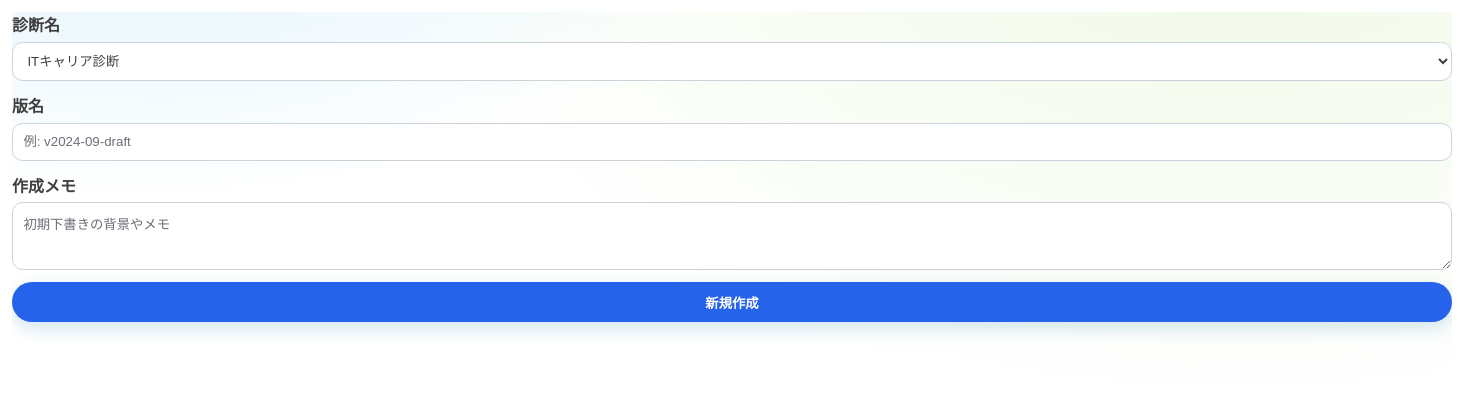
Test: CreateVersionForm › shows API error messages when creation fails
Step 1. Type "Draft-1" into the field labelled "版名" → [732, 142], box [12,123,1452,161]
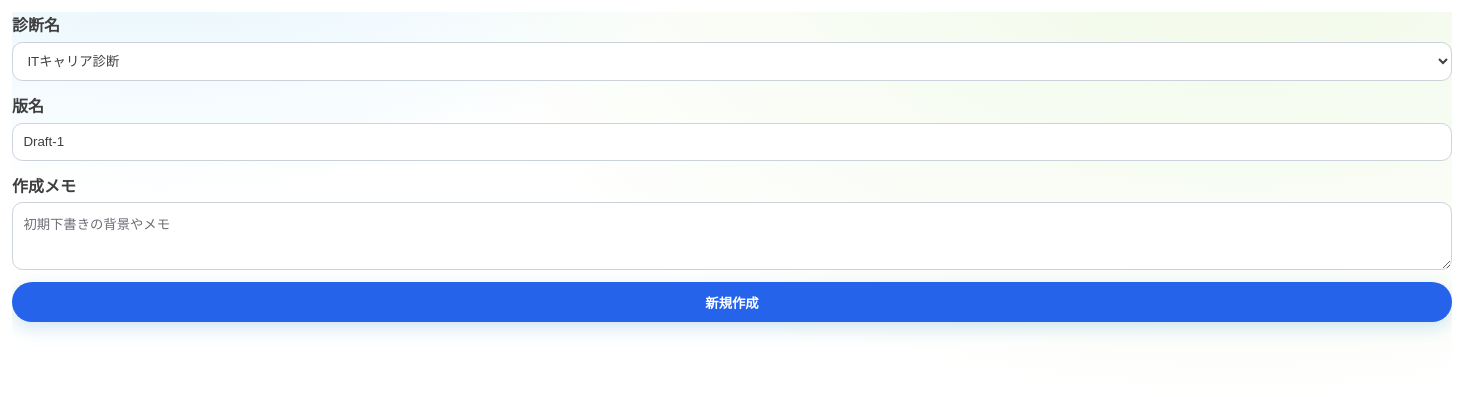
Step 2. Submit the form named "create-version-form"
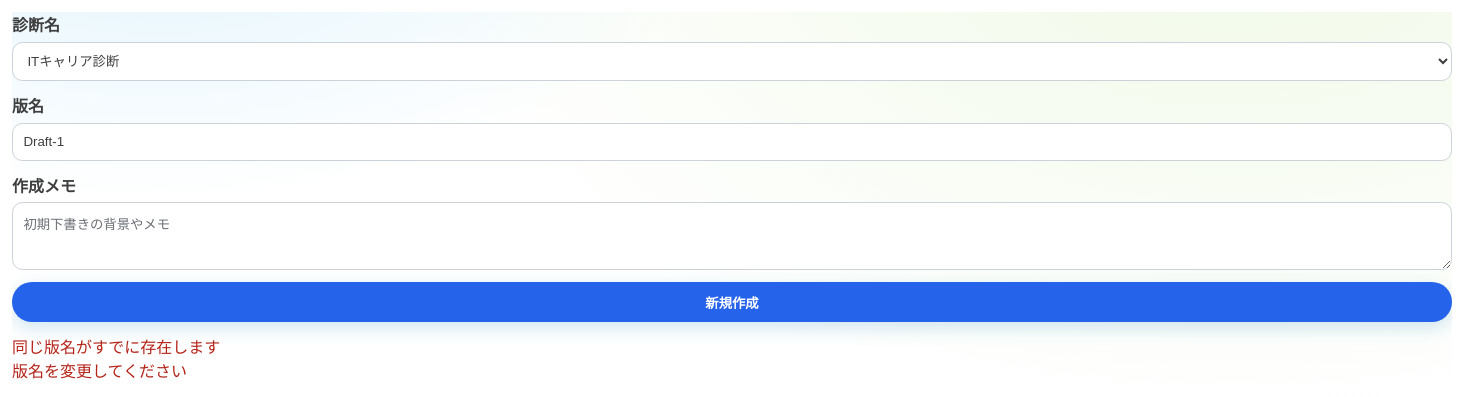
Expected: the text "同じ版名がすでに存在します" is shown, [12,337,220,357]
Expected: the text "版名を変更してください" is shown, [12,361,187,381]
